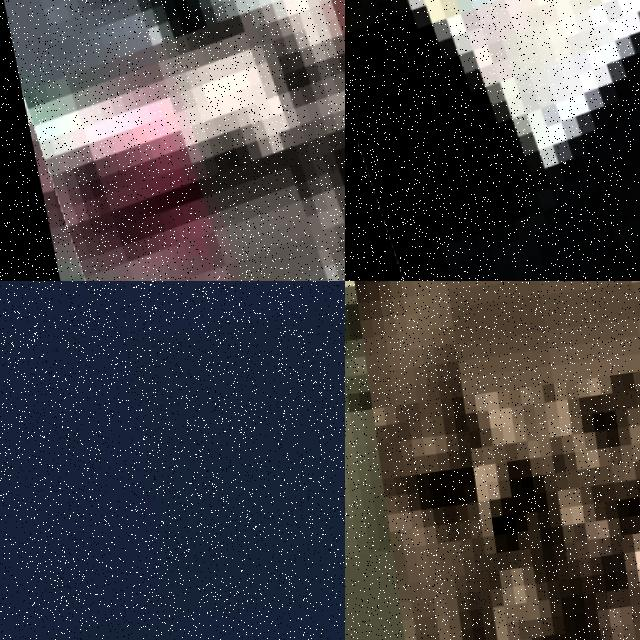0: (0, 0, 345, 281)
drone: (345, 0, 640, 281)
